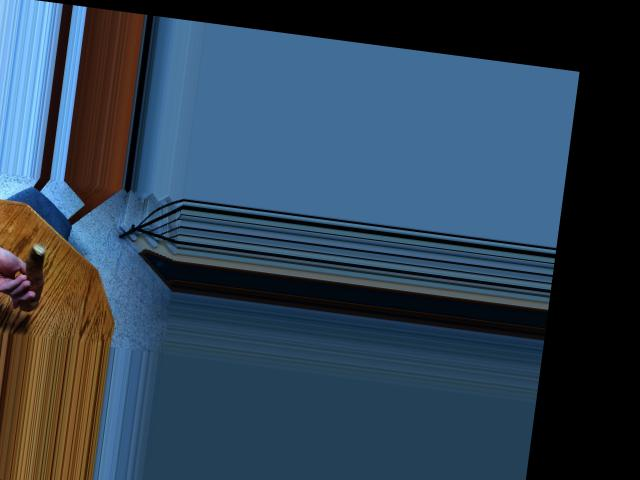sweet_potato: (12, 240, 49, 314)
